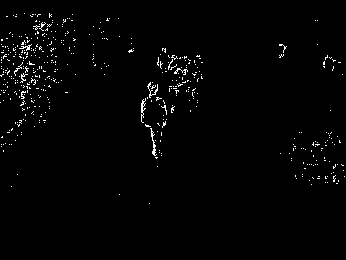person: (135, 79, 170, 165)
